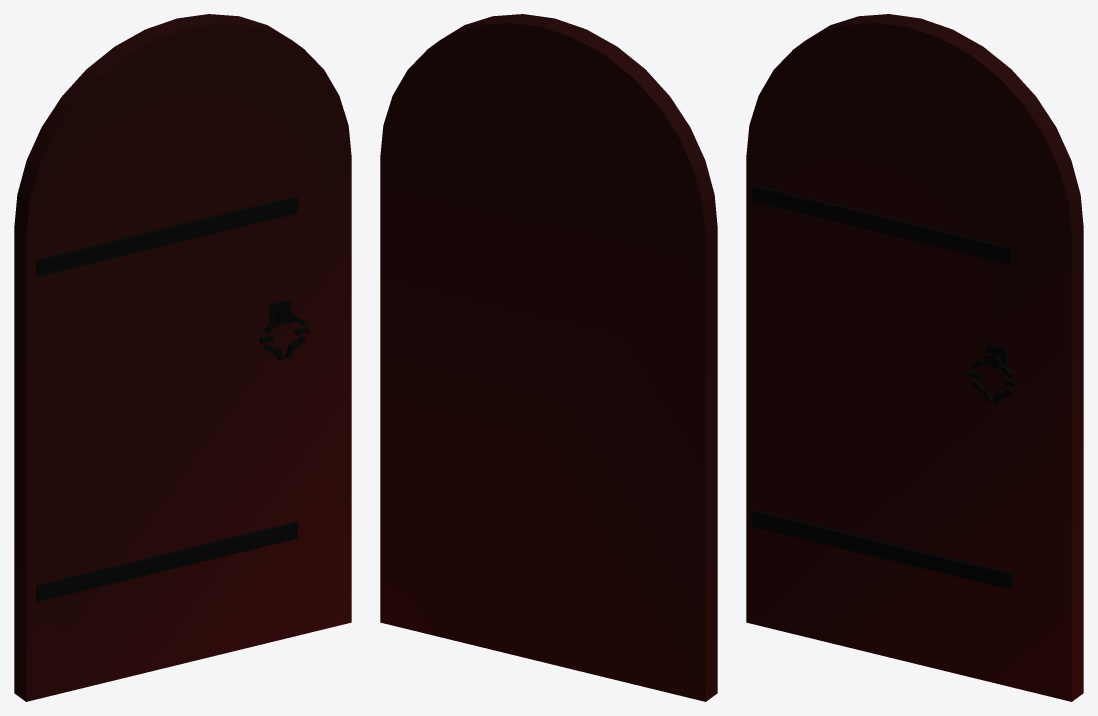
Rendered from SilverbrookFarmhouse_Door1.fbx.
3 renders of one model, left to right at view 1: azimuth 30°, elevation 25°; view 2: azimuth 150°, elevation 25°; view 3: azimuth 330°, elevation 25°, orthographic.
Visible parts, largest first — view 1: SM_SBFarmhouse_Details_Door1_Part; view 2: SM_SBFarmhouse_Details_Door1_Part; view 3: SM_SBFarmhouse_Details_Door1_Part.
Boxes of the visible parts, x1=… form: SM_SBFarmhouse_Details_Door1_Part: x1=14, y1=14, x2=351, y2=701; SM_SBFarmhouse_Details_Door1_Part: x1=380, y1=14, x2=717, y2=701; SM_SBFarmhouse_Details_Door1_Part: x1=746, y1=14, x2=1083, y2=701.
Bounding box in the file's own units: 110 × 205 × 11.2.
